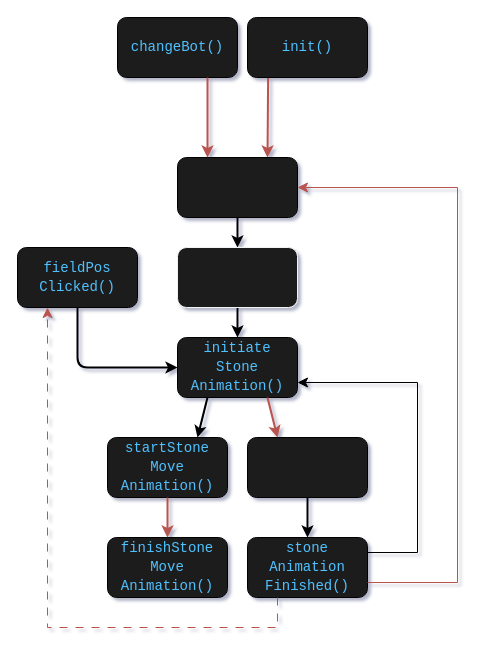
Image size: 491x661. Some labels were removed from this diagram. The shapes that lost their labels are listed below. From the top down, each one's box as (x1, y1, x2, y2) in pixels, then its label:
(176, 156, 298, 218): botTimerFunc()
(176, 246, 298, 308): letComputer Play()
(246, 436, 368, 498): moveTimeFunc()
